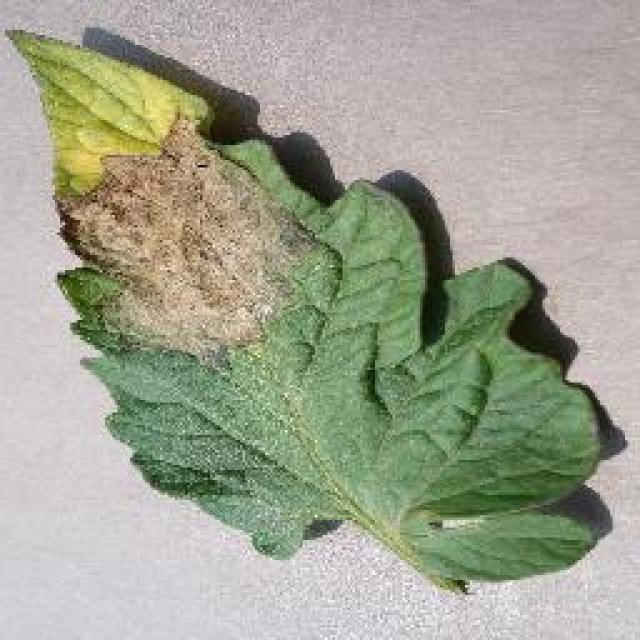Tomato Late Blight: (45, 130, 353, 372)
